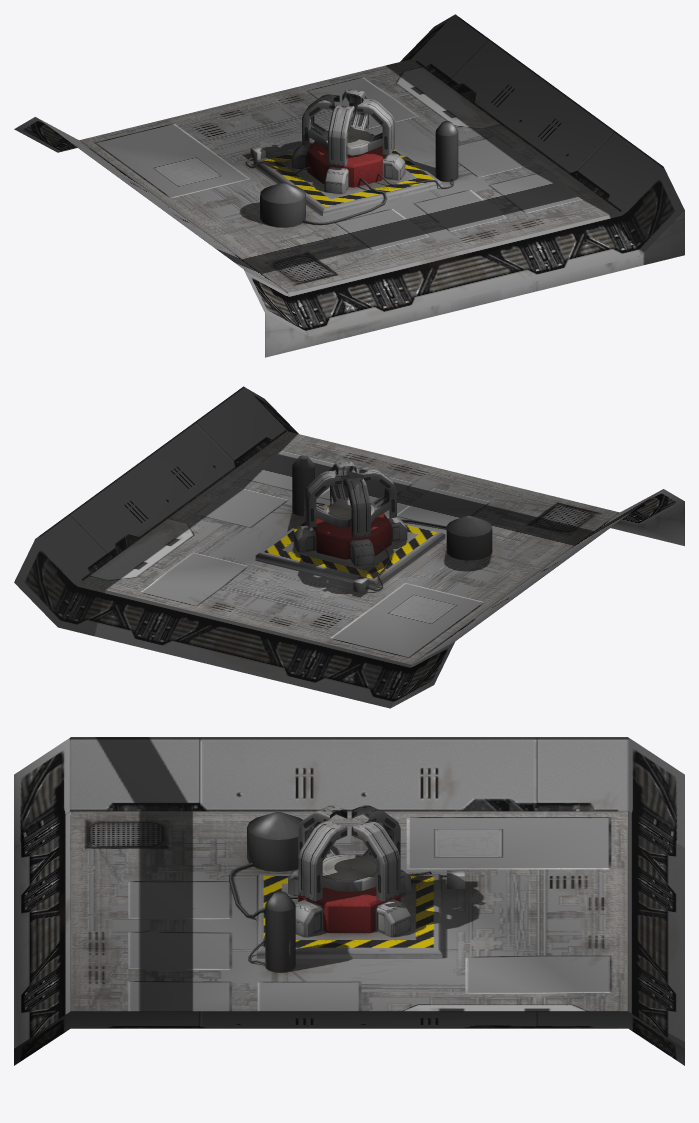
Rendered from ML2_Laser_Spin_Open.FBX.
3 renders of one model, top to bottom at view 1: azimuth 30°, elevation 25°; view 2: azimuth 150°, elevation 25°; view 3: azimuth 270°, elevation 25°, orthographic. The views are drawn at different scales.
Parts seen in each view (by area): view 1: Mesh; view 2: Mesh; view 3: Mesh.
Part boxes in pixels (x1,y1,x2,y2): Mesh: [14, 14, 684, 357]; Mesh: [14, 386, 684, 708]; Mesh: [14, 737, 684, 1065].
Size of the model in its own units: 20.34 by 5.31 by 21.04.
Materials: 1 (1 with a texture image).
